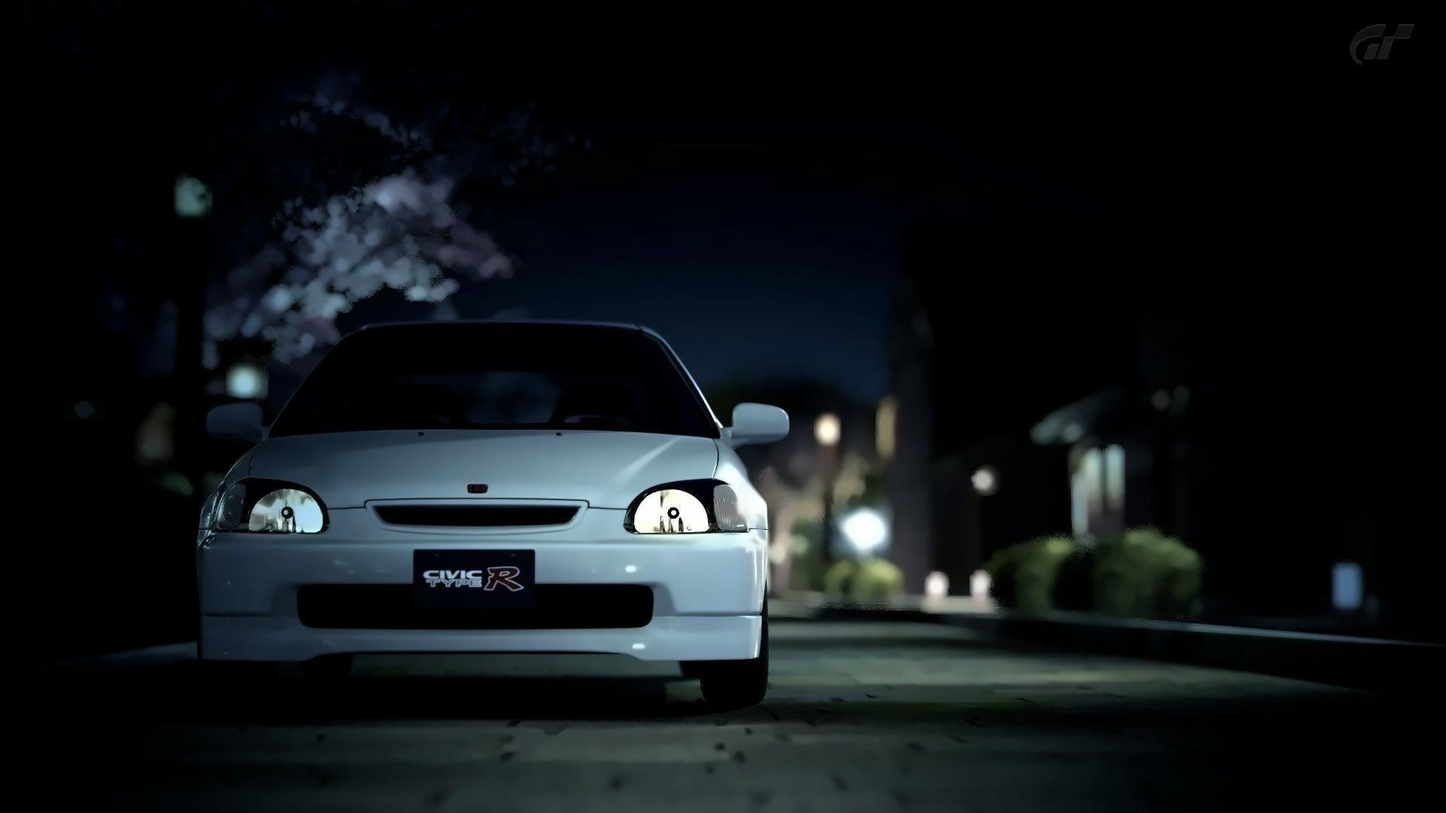Car hood: (245, 423, 725, 517)
Front bumper: (187, 528, 777, 666)
Headlight - -L-: (621, 472, 775, 542)
Headlight - -R-: (202, 468, 334, 540)
Side mirror - -L-: (716, 394, 794, 455)
Side mirror - -R-: (198, 394, 280, 452)
